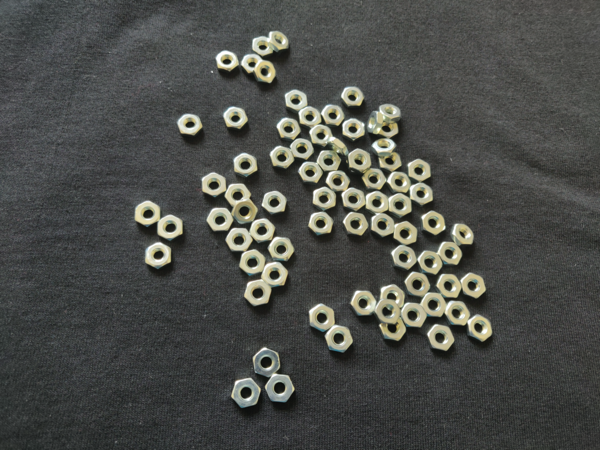nut: (231, 378, 261, 409), (266, 374, 295, 403), (253, 348, 280, 378), (427, 324, 455, 352), (325, 325, 353, 353), (261, 262, 289, 289), (244, 280, 272, 307), (379, 315, 407, 342), (309, 304, 335, 332), (135, 200, 161, 227), (145, 242, 171, 269), (232, 199, 259, 225), (239, 250, 266, 276), (404, 272, 431, 298), (460, 273, 487, 299), (420, 292, 448, 317), (350, 291, 378, 316), (157, 215, 183, 241), (250, 218, 276, 244), (268, 237, 295, 262), (468, 315, 493, 342), (381, 284, 406, 311), (401, 303, 428, 328), (374, 300, 402, 324), (420, 211, 446, 236), (390, 246, 417, 270), (225, 228, 253, 251), (202, 172, 227, 197), (312, 187, 337, 212), (308, 212, 334, 236), (343, 212, 369, 236), (436, 275, 462, 299), (445, 301, 471, 325), (225, 184, 252, 207), (234, 153, 258, 178), (270, 145, 295, 169), (262, 191, 287, 215), (418, 251, 443, 275), (438, 242, 463, 266), (298, 161, 324, 184), (410, 182, 433, 208), (176, 114, 203, 136), (207, 209, 234, 231), (348, 149, 372, 173), (342, 188, 366, 212), (366, 191, 390, 215), (371, 214, 395, 238), (394, 222, 418, 246), (285, 89, 308, 114), (389, 193, 412, 218), (450, 224, 475, 247), (361, 168, 387, 190), (277, 118, 301, 141), (408, 159, 431, 183), (224, 107, 249, 129), (388, 171, 411, 194), (215, 50, 239, 72), (321, 105, 345, 127), (309, 125, 333, 147), (343, 118, 365, 142), (291, 138, 315, 160), (326, 171, 351, 192), (254, 60, 276, 83), (298, 107, 322, 128), (342, 87, 366, 108), (317, 151, 342, 171), (378, 153, 402, 173), (372, 138, 397, 157), (252, 36, 274, 57), (269, 30, 289, 53), (379, 104, 402, 124), (242, 54, 263, 74), (328, 137, 349, 157), (378, 121, 399, 139), (368, 111, 383, 135)
